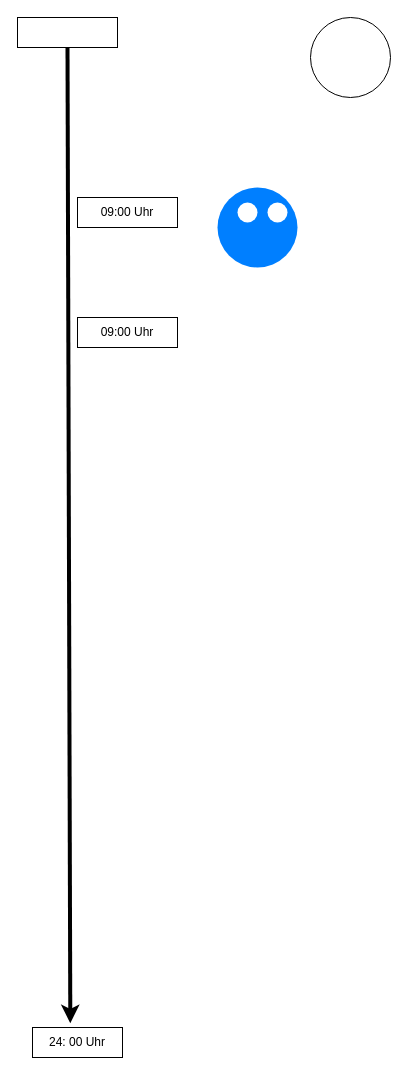
This 408x1075 diagram has some shape labels left out. The centre of each missing label's shape, as x and y in pixels:
"00:00 Uhr" goes at (x=67, y=32).
"Ich entspreche nicht meinen eigenen Erwarten" goes at (x=350, y=57).
